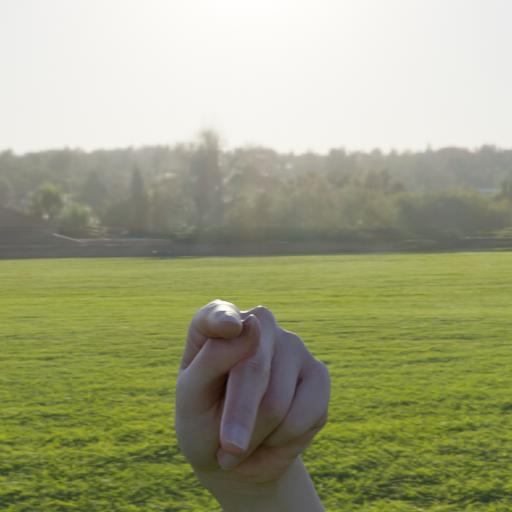P: (170, 294, 336, 487)
